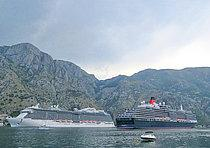Ship: (4, 100, 118, 133), (110, 95, 202, 132)
